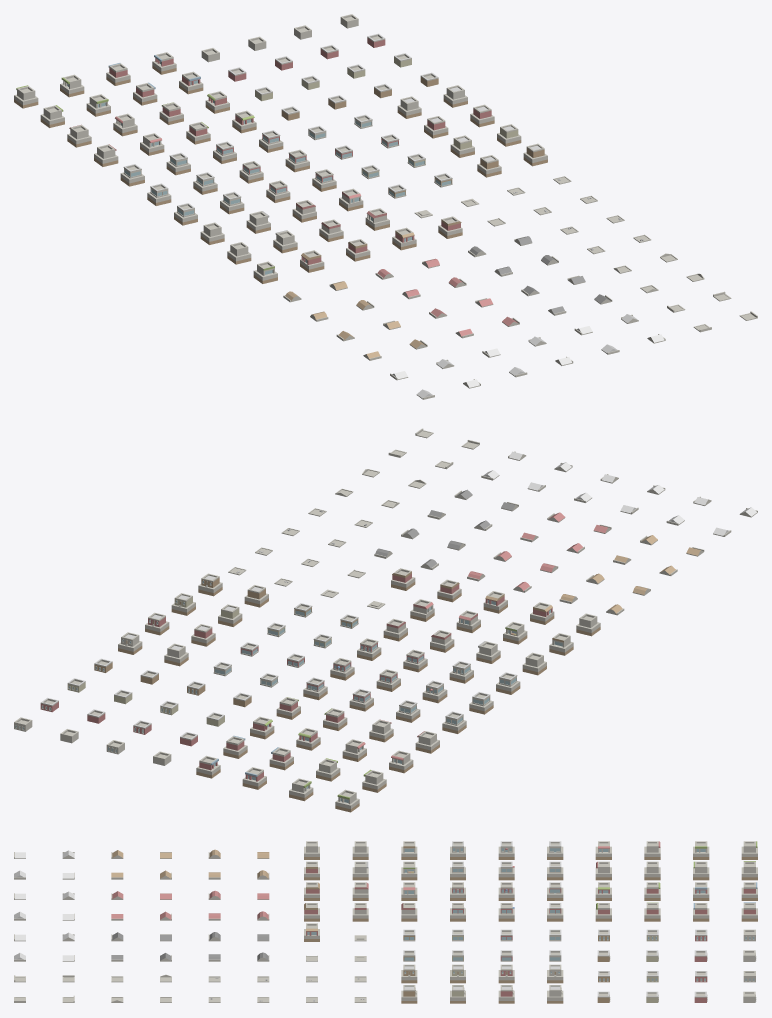
Rendered from buildingsdae.dae.
3 renders of one model, top to bottom at view 1: azimuth 30°, elevation 25°; view 2: azimuth 150°, elevation 25°; view 3: azimuth 270°, elevation 25°, orthographic. The views are drawn at different scales.
Visible parts, largest first — view 1: Group2, Group104, Group77, Group230, Group194; view 2: Group2, Group77, Group104, Group230, Group194; view 3: Group2, Group104, Group77, Group230, Group194, Group226, Group244, Group237, Group83, Group87, Group161, Group198 (+4 smaller).
Part boxes in pixels (x1,y1,x2,y2): Group2: (14,94,544,230); Group104: (228,67,464,222); Group77: (61,74,498,214); Group230: (150,25,434,399); Group194: (169,124,518,264); Group2: (201,568,443,812); Group77: (247,585,451,792); Group104: (121,599,433,746); Group230: (60,507,757,743); Group194: (174,593,552,714); Group2: (306,846,757,996); Group104: (354,903,707,996); Group77: (403,861,755,975); Group230: (14,841,755,982); Group194: (306,861,561,996); Group226: (14,870,658,941); Group244: (257,950,561,975); Group237: (208,849,707,982); Group83: (401,841,660,914); Group87: (306,861,609,893); Group161: (597,882,660,1002); Group198: (304,841,561,914).
Size of the model in its own units: 2.2 by 4.59 by 0.086.
